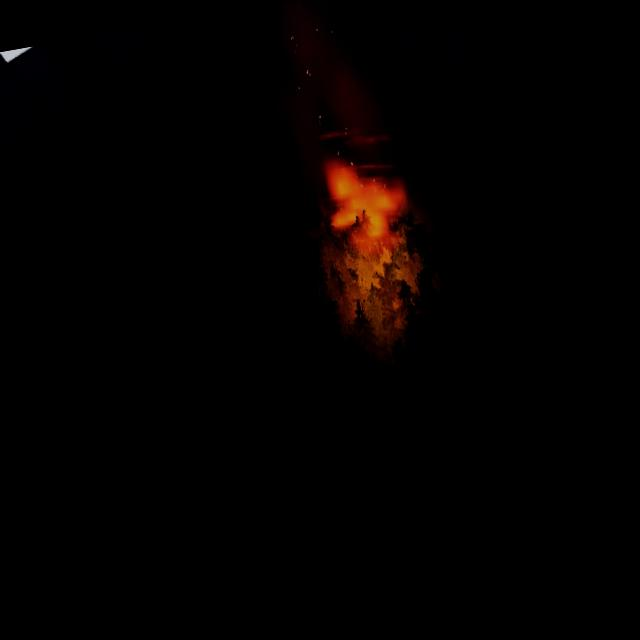fire: (317, 146, 413, 260)
smoke: (264, 0, 397, 159)
